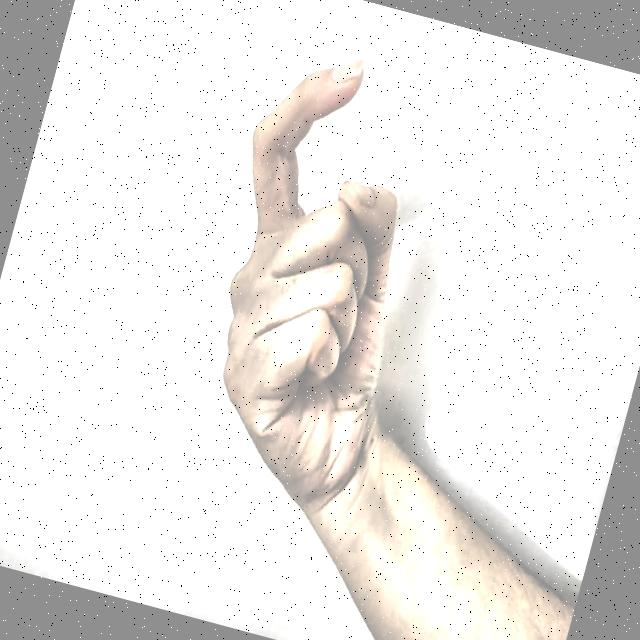E: (134, 9, 524, 554)
